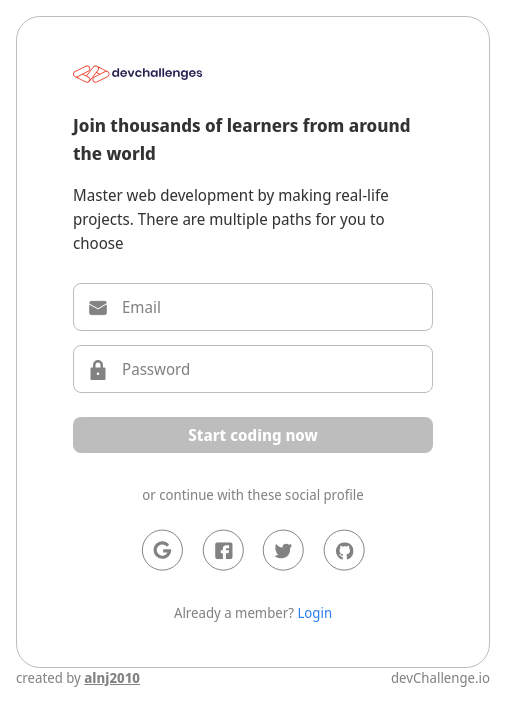
Test case: Register page › When register textfields are filled the register button should be active
Type "xanthe.neal@gmail.com" into the field with test id "textfield-user-email" at (253, 307), box top-left (74, 284), bottom-right (432, 330)
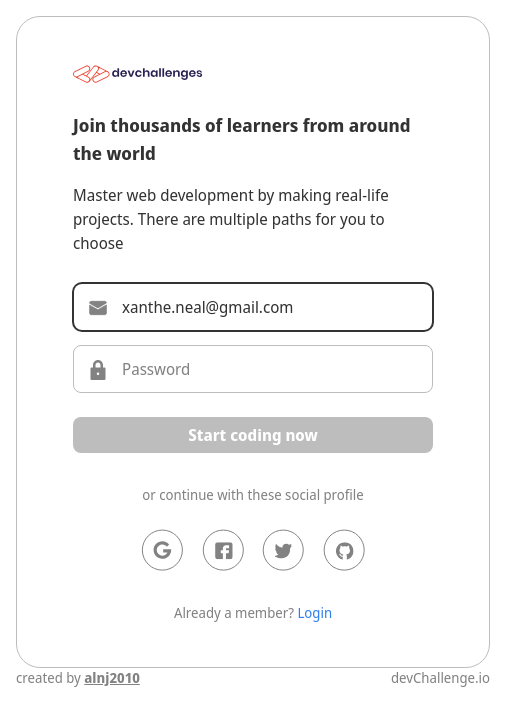
Type "******" into the password field with test id "textfield-user-password" at (253, 369), box top-left (74, 346), bottom-right (432, 392)
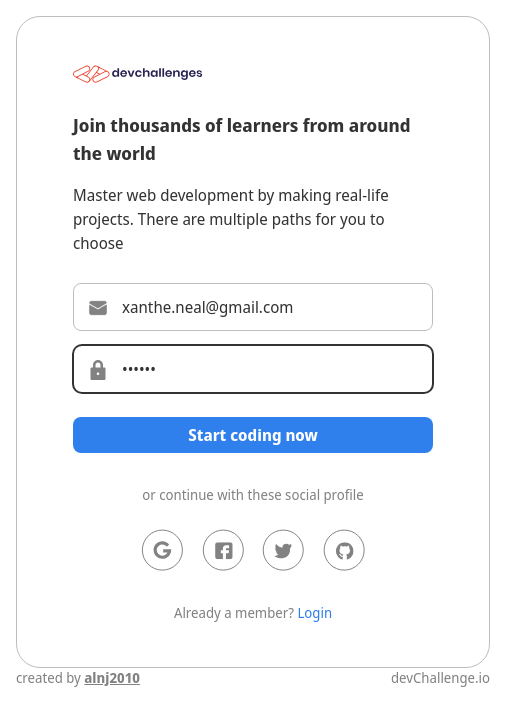
Result: the button with test id "register-button" is enabled at top-left (73, 417), bottom-right (433, 453)
